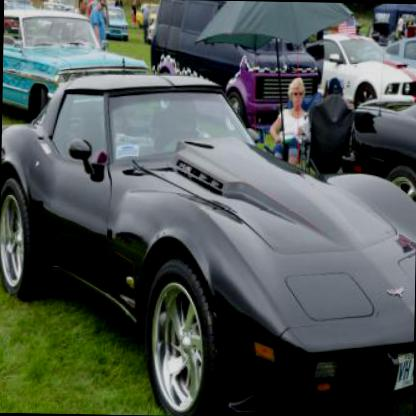car: (0, 67, 415, 415), (1, 3, 148, 123), (338, 69, 415, 252), (317, 27, 415, 112), (379, 33, 415, 98), (97, 2, 128, 45), (3, 0, 28, 36)
